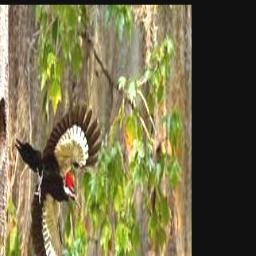Woodpecker: (15, 101, 104, 256)
